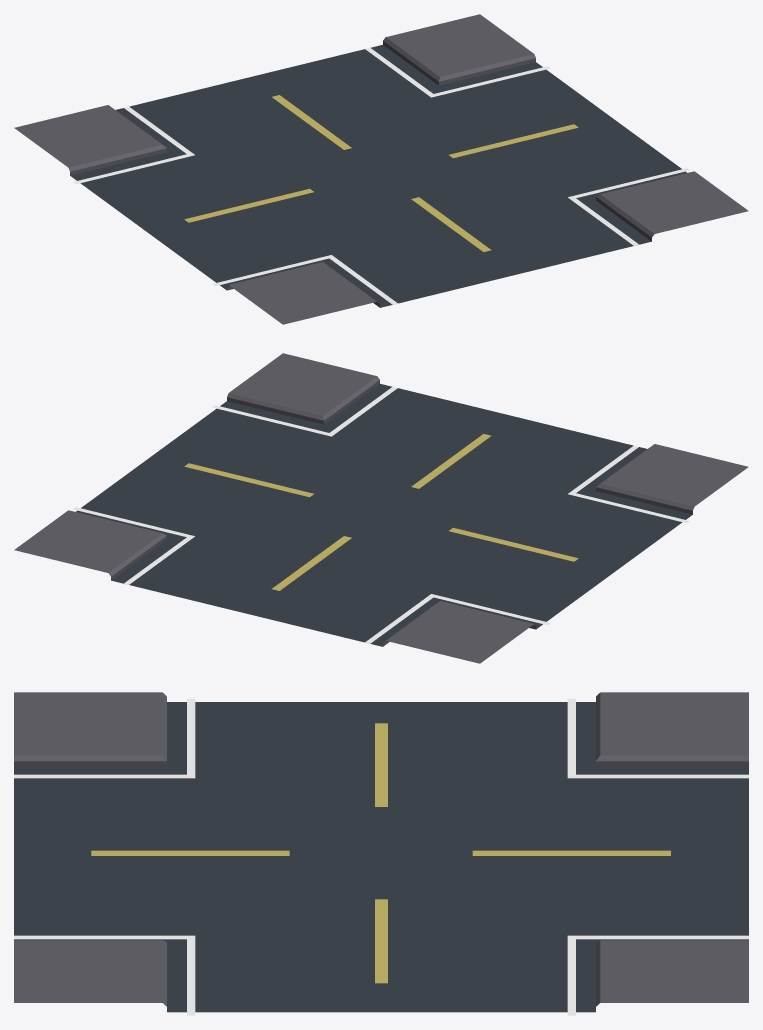
Rendered from Road_03.fbx.
The picture shows the model from 3 angles, top to bottom: view 1: azimuth 30°, elevation 25°; view 2: azimuth 150°, elevation 25°; view 3: azimuth 270°, elevation 25°; orthographic projection. The views are drawn at different scales.
Parts seen in each view (by area): view 1: Road_03; view 2: Road_03; view 3: Road_03.
Boxes of the visible parts, box(x1,y1,x2,y2) form: Road_03: box(14, 14, 748, 324); Road_03: box(14, 353, 748, 663); Road_03: box(14, 692, 748, 1015).
Size of the model in its own units: 408 by 5.62 by 400.
